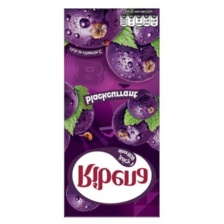carton: (59, 6, 163, 219)
